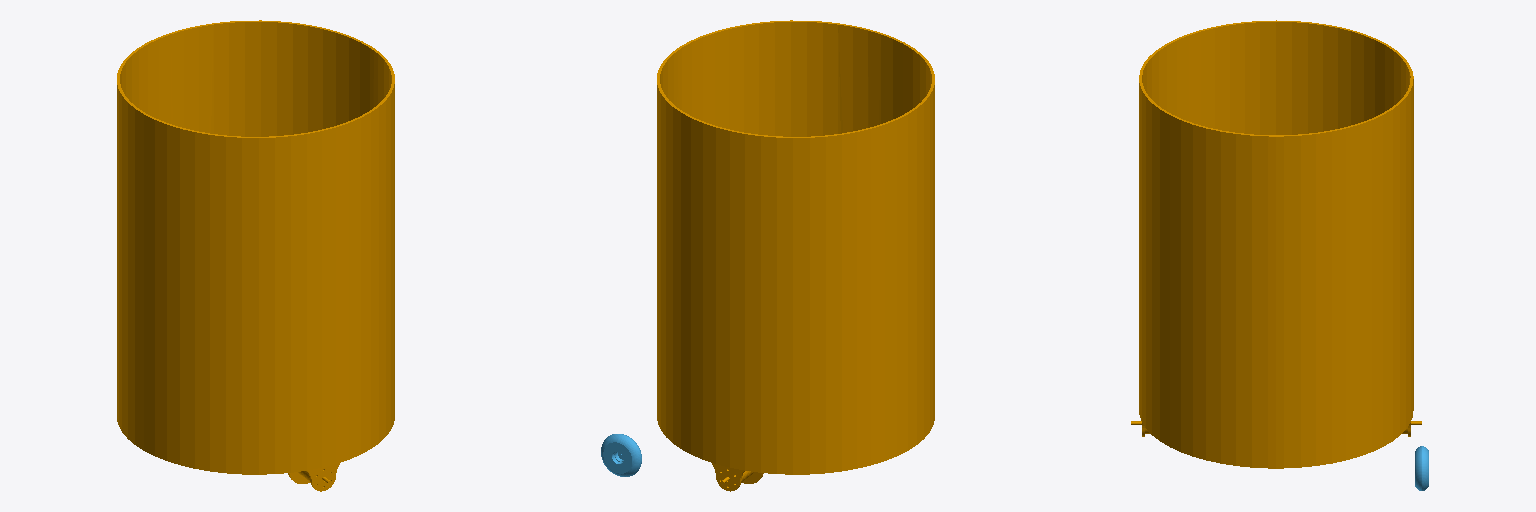
robot.urdf — SelfBalancingRobotv0.1:
<?xml version = "1.0" ?>
<robot name = "SelfBalancingRobotv0.1">
	<link name = "Chassis">
		<visual>
			<origin rpy="0 0 0" xyz = "0 0 0.00498"/>
			<geometry>
				<mesh filename="package://robot_model_1/meshes/chassis.STL"/>
			</geometry>
		</visual>
		<collision>
			<origin rpy="0 0 0" xyz = "0 0 0.00498"/>
			<geometry>
				<mesh filename="package://robot_model_1/meshes/chassis.STL"/>
			</geometry>
		</collision>
		<inertial>
			<origin xyz = "0.2286 0.24 0.26498"/>
			<mass value = "4.91"/>
			<inertia iyy = "0.30" izz = "0.22" ixx = "0.34" ixy ="0.0" ixz = "0.0" iyz = "0.0"/>
		</inertial>
	</link> 
	<link name="right_wheel">
		<visual>
			<origin xyz = "0.1906 -0.02 0.0" rpy = "0 0 0"/>
			<geometry>
				<mesh filename="package://robot_model_1/meshes/left_wheel.STL"/>
			</geometry>
		</visual>
		<collision>
			<origin xyz = "0.1906 -0.02 0.0" rpy = "0 0 0"/>
			<geometry>
				<mesh filename="package://robot_model_1/meshes/left_wheel.STL"/>
			</geometry>
		</collision>
		<inertial>
			<origin xyz = "228.6 -0.00826 0.038"/>
			<mass value = "0.1"/>
			<inertia iyy = "0.000068067" izz = "0.000038287" ixx = "0.000038287" ixy ="0.0" ixz = "0.0" iyz = "0.0"/>
		</inertial>
	</link>
	<joint name="right_wheel_joint" type = "continuous">
		<parent link = "Chassis"/>
		<child link = "right_wheel"/>
		<orign xyz = "0.2286 0 0.03" rpy = "0 0 0"/>
	</joint>
</robot>

--- What the picture shows (computed from the rendered views, not written in the file) ---
The picture shows the robot from 3 angles, left to right: view 1: azimuth 30°, elevation 25°; view 2: azimuth 150°, elevation 25°; view 3: azimuth 270°, elevation 25°; orthographic projection.
Robot: SelfBalancingRobotv0.1 — 2 links, 1 joints (1 continuous); root link Chassis; default pose: every joint at zero.
Visible links, largest first — view 1: Chassis; view 2: Chassis, right_wheel; view 3: Chassis, right_wheel.
Link boxes in pixels (x1,y1,x2,y2): Chassis: (117,20,394,491); Chassis: (657,20,934,491); right_wheel: (601,434,641,476); Chassis: (1131,20,1421,468); right_wheel: (1415,446,1428,490).
Size in the robot's own frame: 0.4572 by 0.497 by 0.6658 metres.
2 mesh visuals loaded from 2 distinct referenced files (2 binary STL).